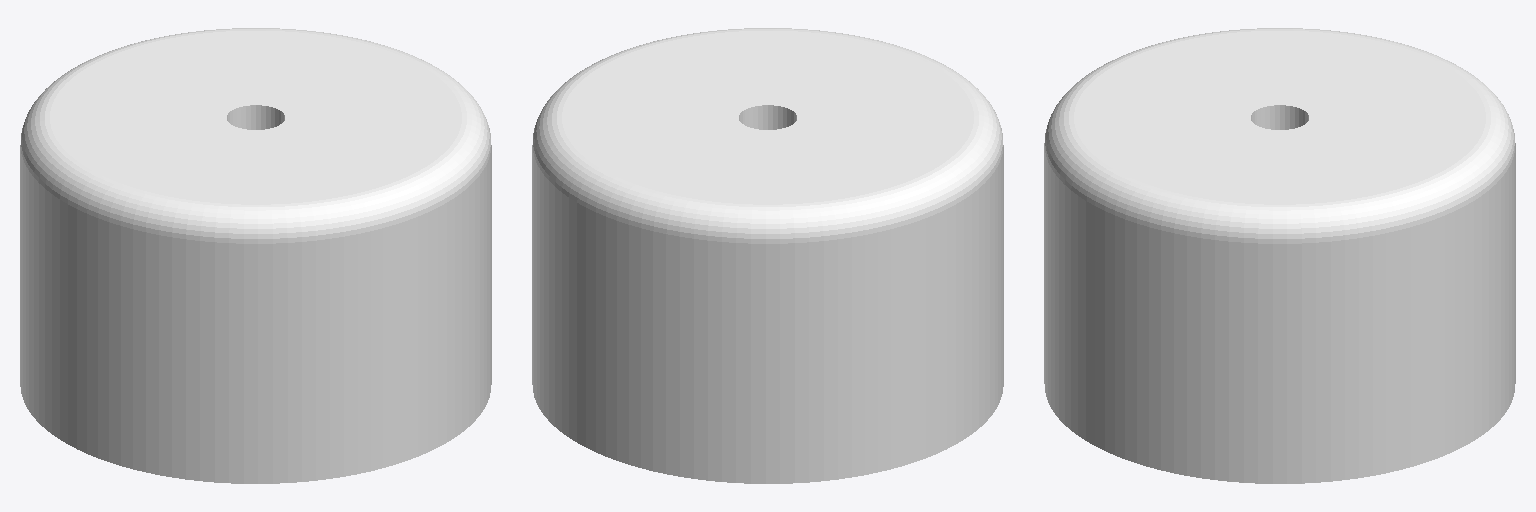
URDF robot description (robotic_arm_base):
<?xml version="1.0" ?>
<robot name="robotic_arm_base">
    <!-- Define the base link -->
   <link name="base_link">
        <inertial>
            <mass value="3815"/>
            <origin xyz="0 0 0.309" rpy="0 0 0"/>
            <inertia ixx="36.11" ixy="0.0" ixz="0.0" iyy="36.11" iyz="0.0" izz="47.69"/>
        </inertial>
        <visual>
            <geometry>
                <mesh filename="roboticarm/meshes/base_mesh.stl" />
            </geometry>
            <material name="pink">
                <color rgba="246 36 89 1" />
            </material>
        </visual>
        <collision>
            <geometry>
                <mesh filename="roboticarm/meshes/base_mesh.stl" />
            </geometry>
        </collision>
    </link>
</robot>

--- Facts derived from the render (not from the file) ---
Views: 3 orthographic renders of the robot side by side, from view 1: azimuth 30°, elevation 25°; view 2: azimuth 150°, elevation 25°; view 3: azimuth 270°, elevation 25°.
Robot: robotic_arm_base — 1 links, 0 joints (none); root link base_link; default pose: every joint at zero.
Links seen in each view (by area): view 1: base_link; view 2: base_link; view 3: base_link.
Link boxes in pixels (bbox=[...]): base_link: bbox=[20, 28, 491, 483]; base_link: bbox=[532, 28, 1003, 483]; base_link: bbox=[1044, 28, 1515, 483].
Bounding box of the posed robot: 1000 × 1000 × 625 m (x, y, z).
1 mesh visuals loaded from 1 distinct referenced files (1 binary STL).